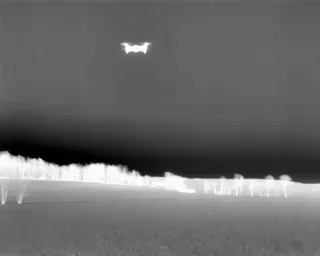DRONE: (116, 37, 155, 61)
